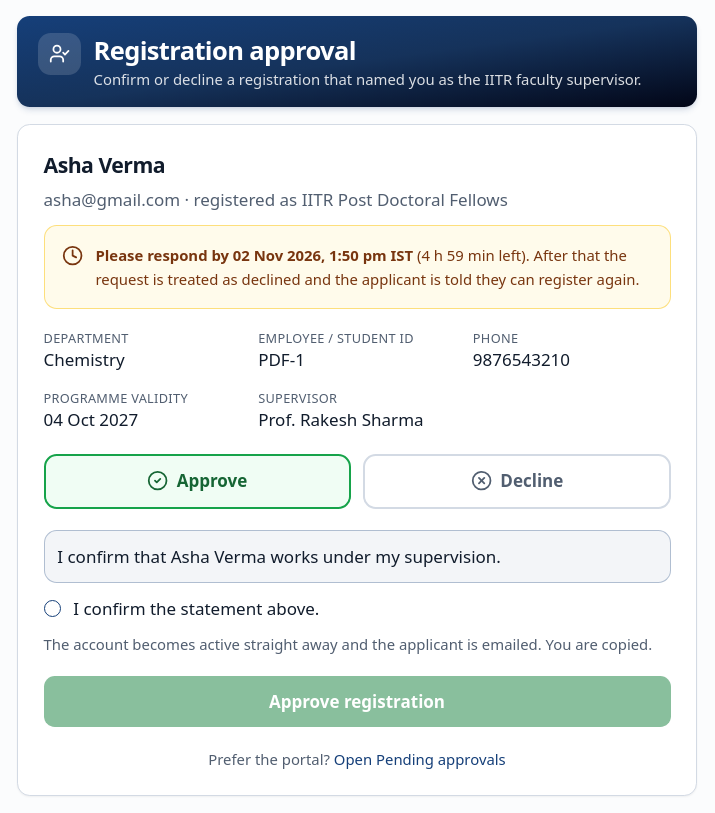
Registration decision from the faculty email › needs the confirmation tick before approving and shows the deadline
The width and height of the screenshot is (715, 813).
Expected: the text "I confirm that Asha Verma works under my supervision." is shown, [44,530,670,583]
Expected: the text "Please respond by 02 Nov 2026, 1:50 pm IST" is shown, [96,245,413,265]
Click the checkbox.
click(52, 608)  # box [44,600,60,617]
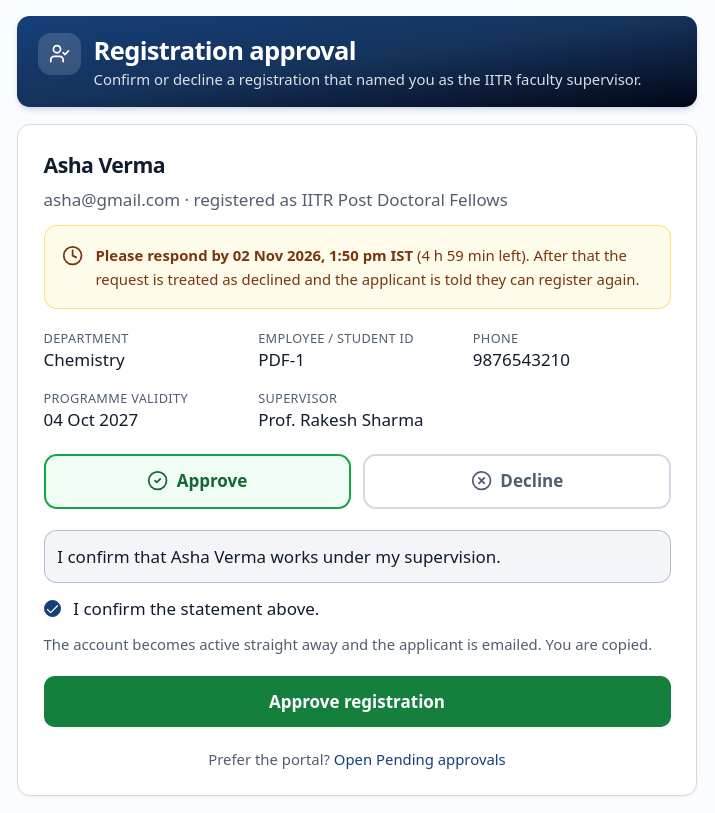
Click the button "Approve registration".
click(357, 702)  # box [44,676,670,727]
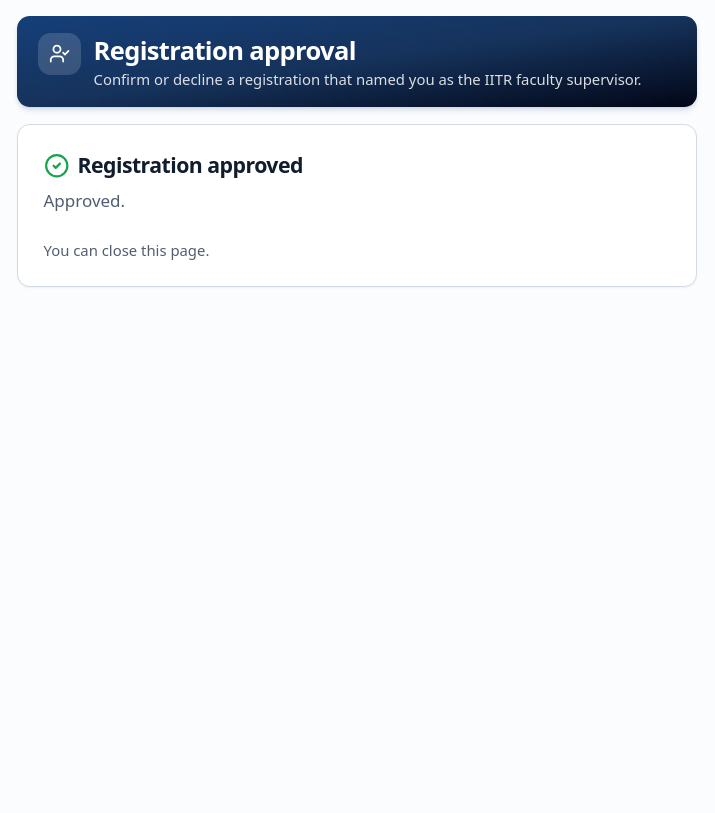
Result: the text "Registration approved" is shown at [44,150,303,179]
